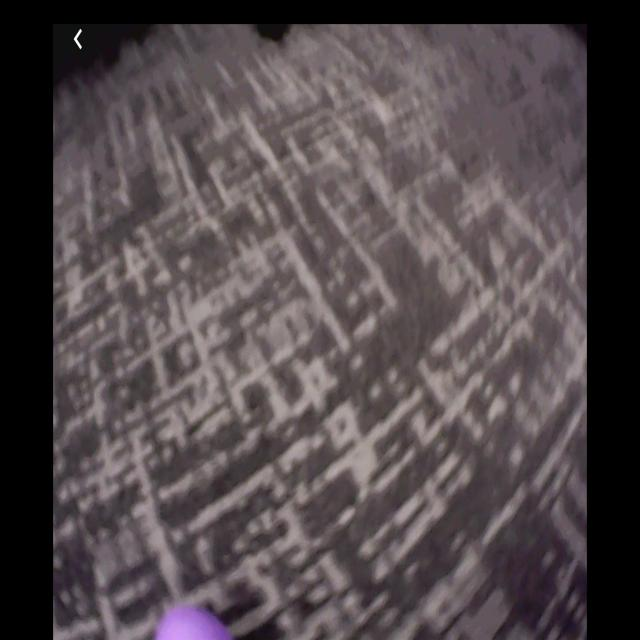ball: (156, 604, 232, 640)
